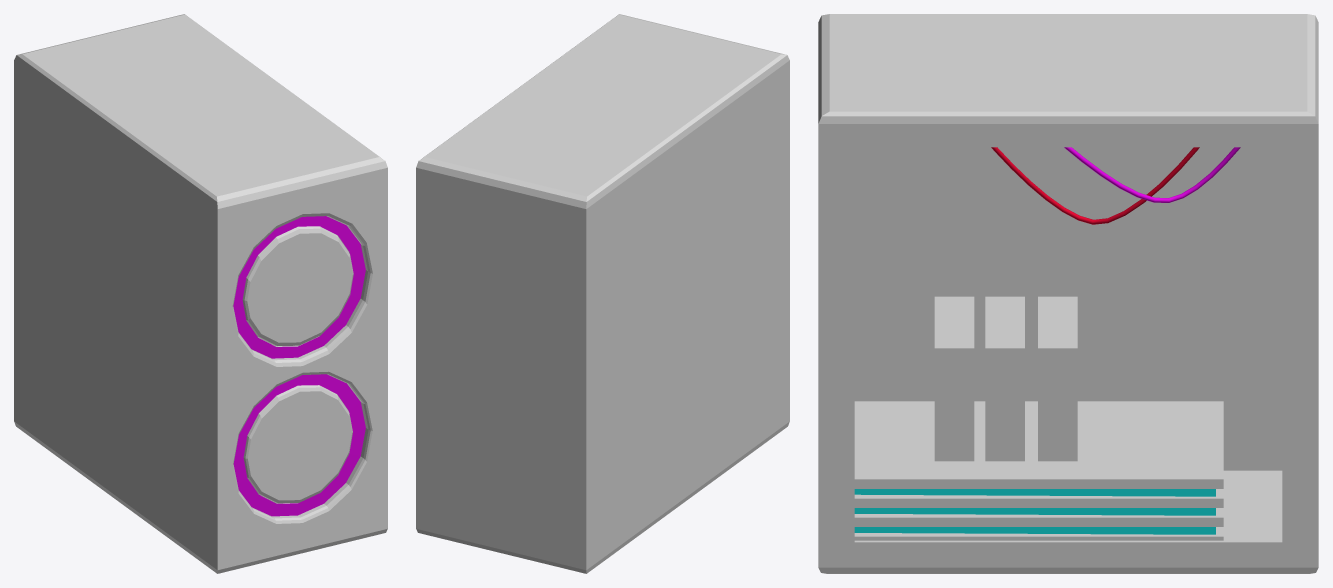
The model's file is casemerge.fbx.
3 views of the same model, side by side, from view 1: azimuth 30°, elevation 25°; view 2: azimuth 150°, elevation 25°; view 3: azimuth 270°, elevation 25° (orthographic). The views are drawn at different scales.
Parts seen in each view (by area): view 1: case..001; view 2: case..001; view 3: case..001.
Boxes of the visible parts, x1,y1,x2,y2 form: case..001: (14,14,387,573); case..001: (416,14,789,573); case..001: (818,14,1318,573).
Size of the model in its own units: 190 by 400 by 392.
